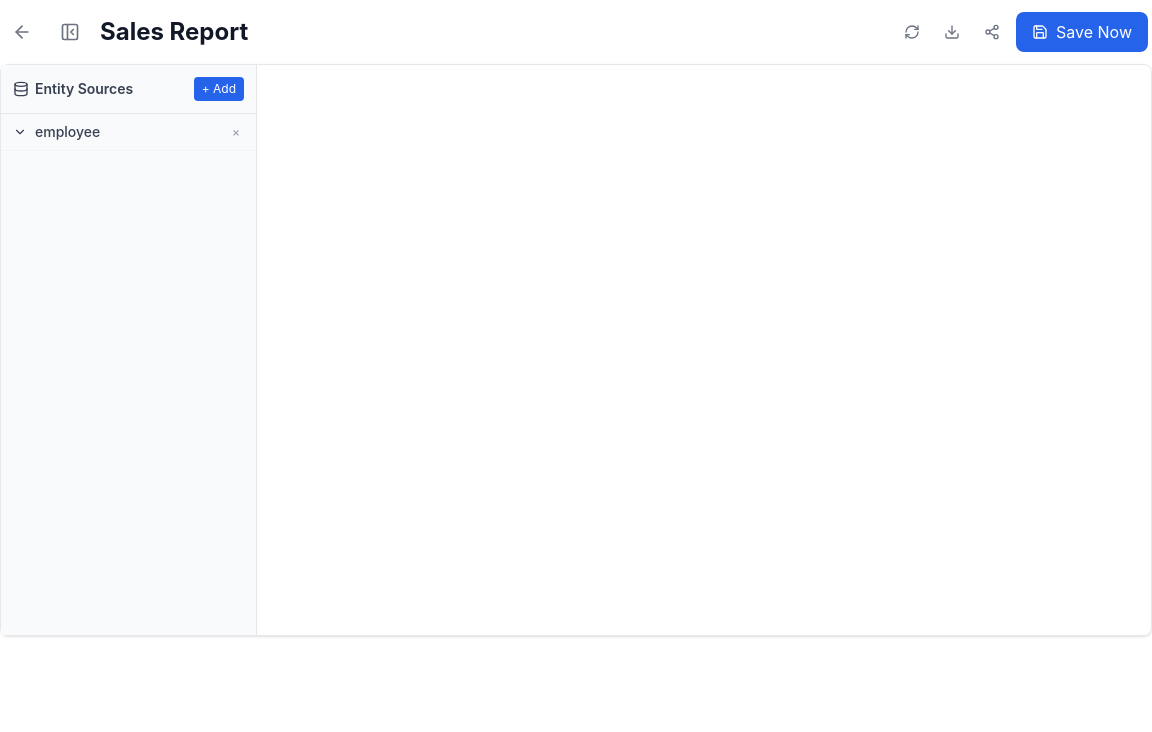
Scenario: RfSheetPage — existing sheet › shows saved indicator on successful update
What coordinates should you click on to do the following:
click the button "Save Now"
I would click on:
 (1082, 32)
Its box is [1016, 12, 1148, 52].
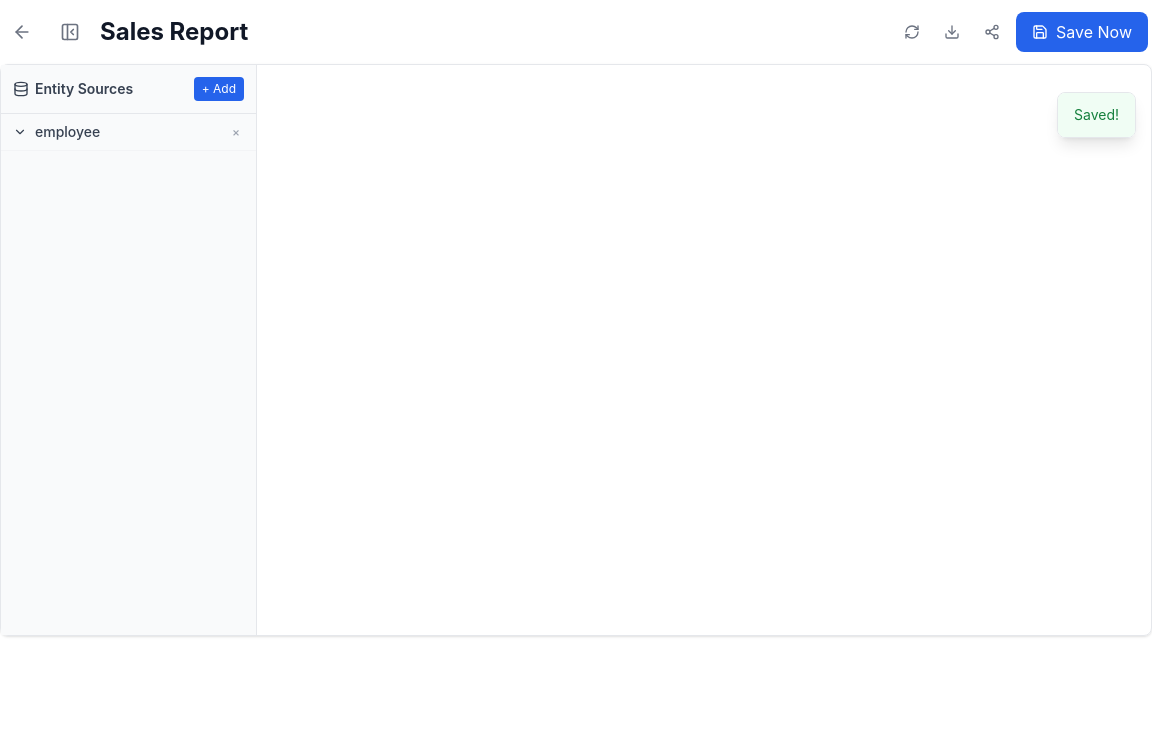
Expected: the text "Saved!" is shown, [1058, 93, 1135, 137]
